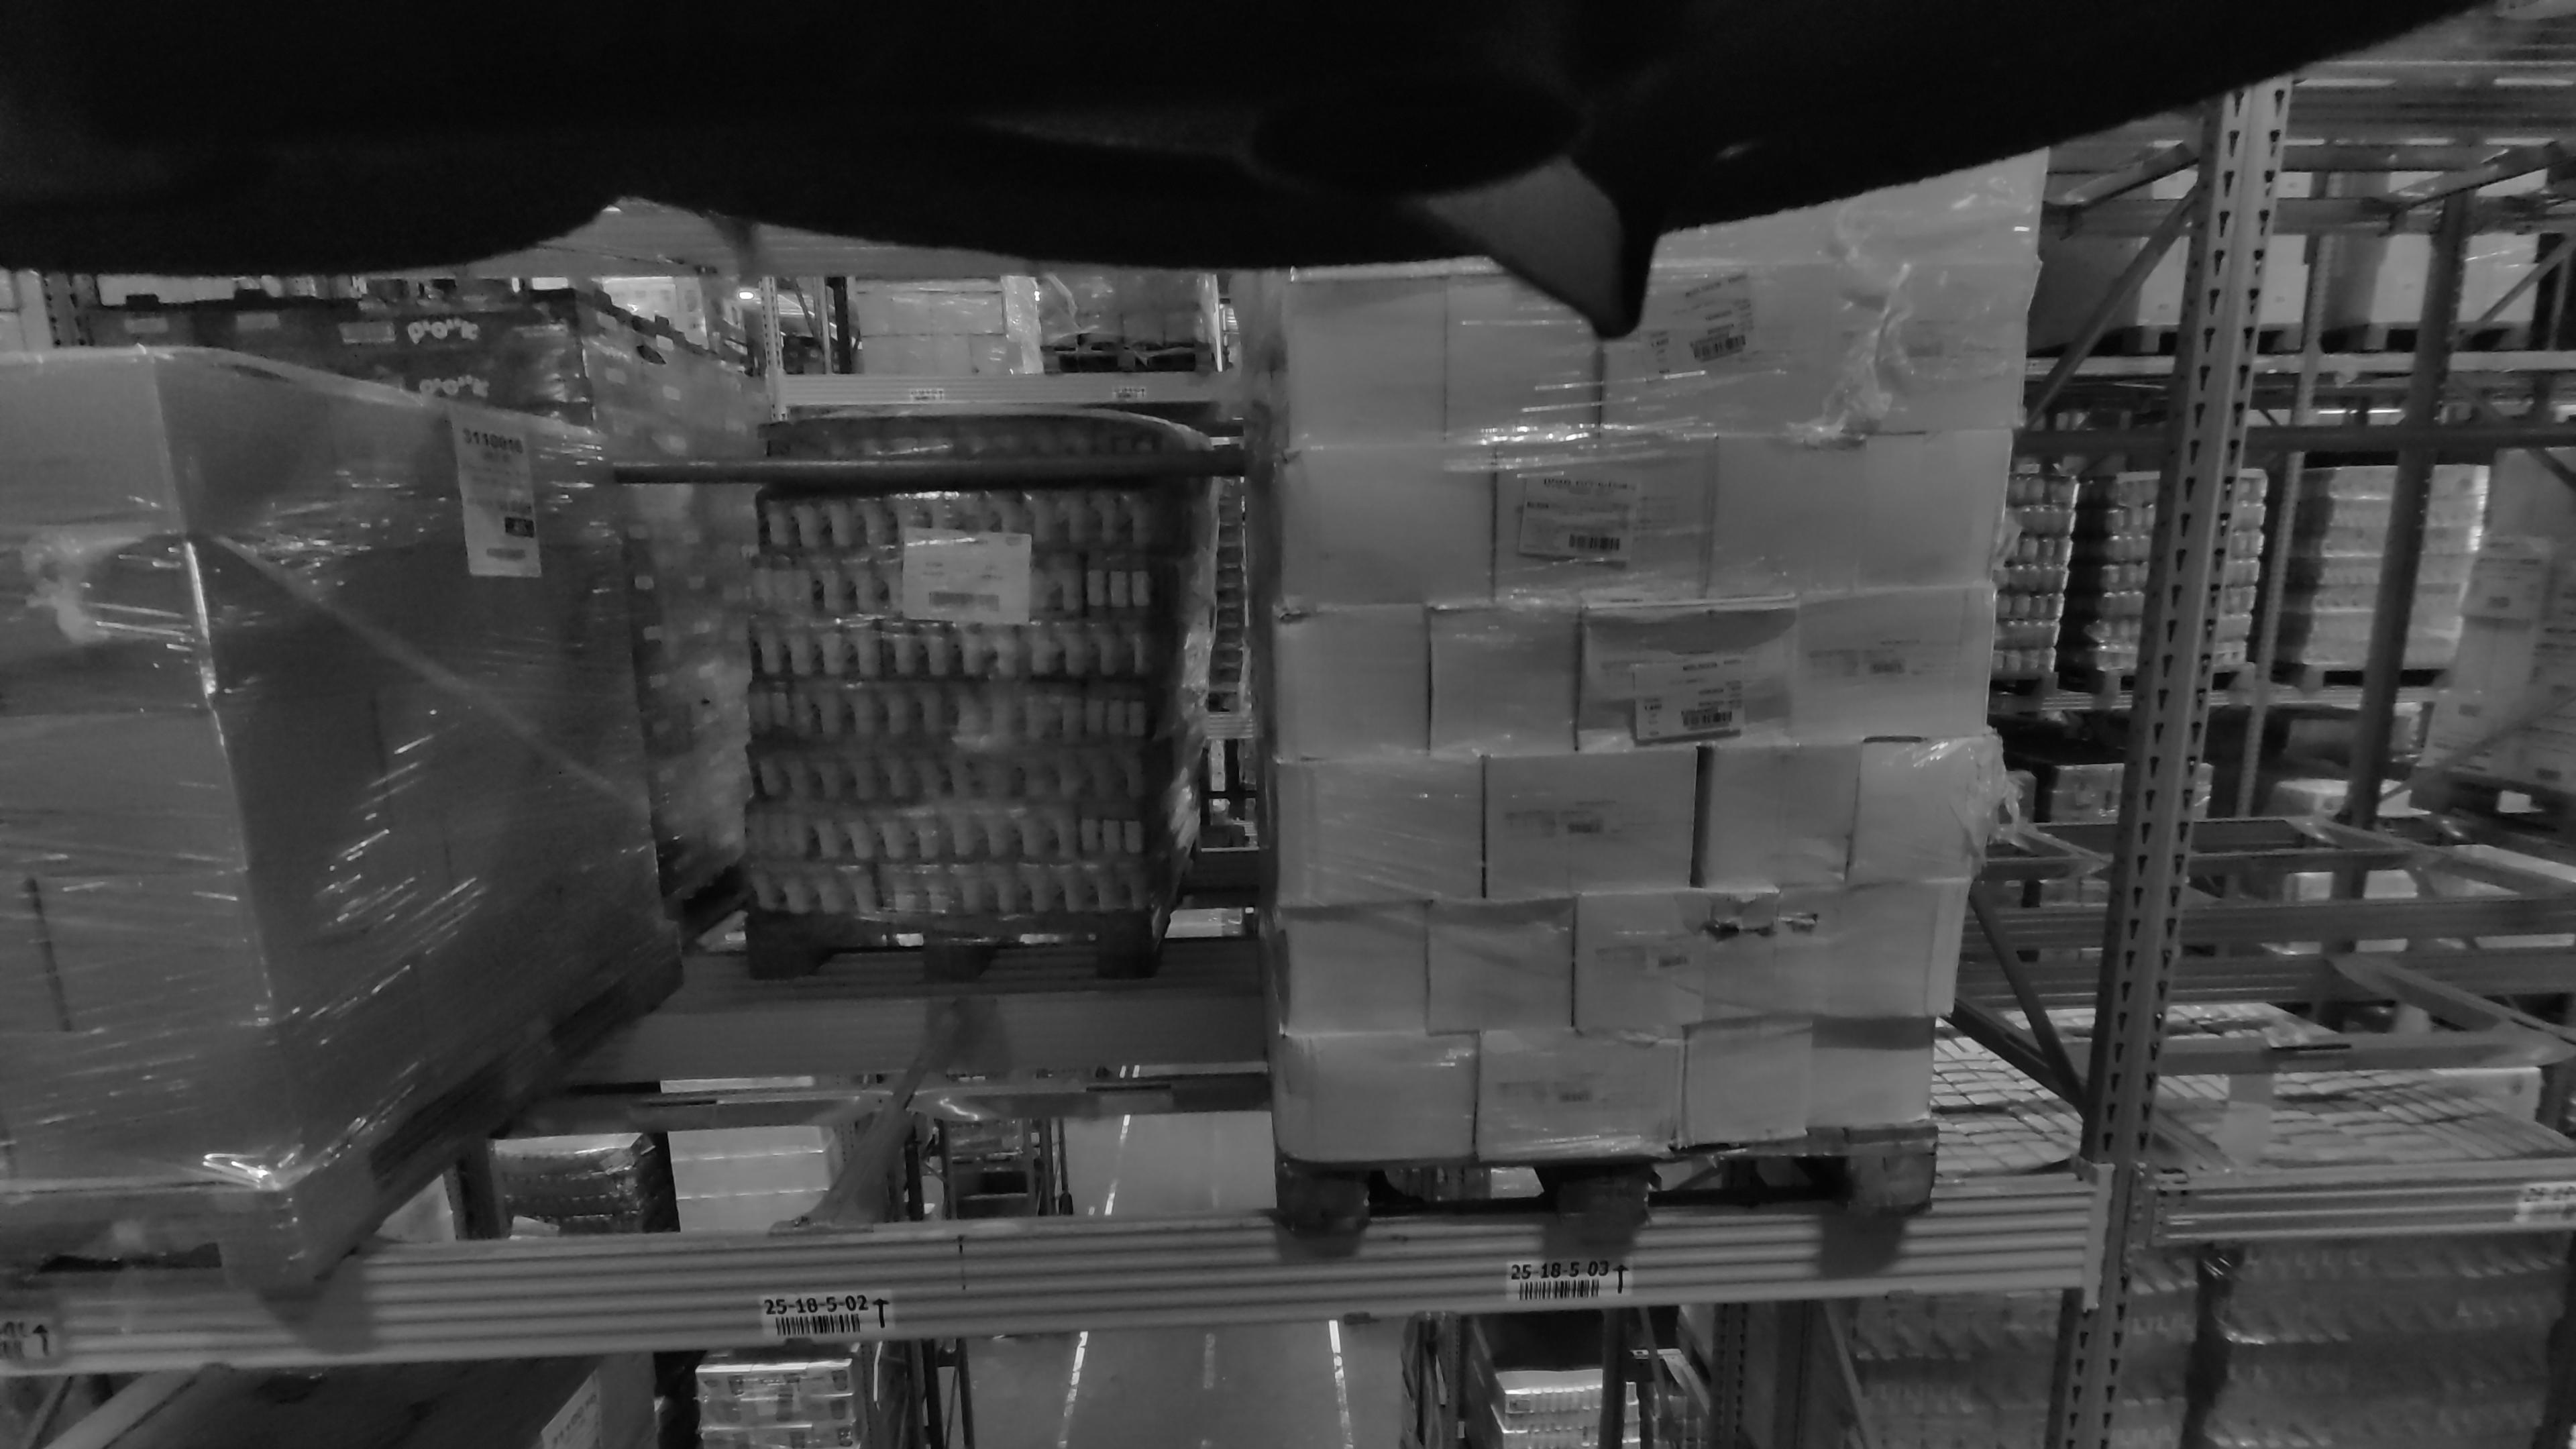empty-shelf: (524, 168, 1221, 1207), (2220, 0, 2576, 1187), (2243, 0, 2539, 888)
